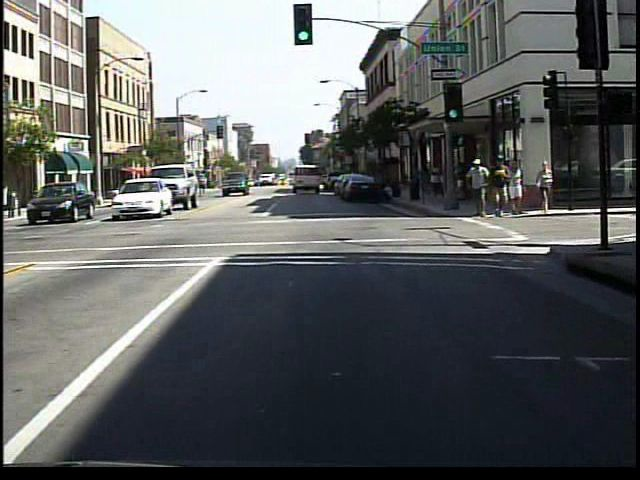person: (466, 157, 492, 221), (488, 154, 513, 218), (535, 157, 560, 221), (509, 158, 529, 220), (428, 158, 447, 206), (196, 173, 213, 201)
